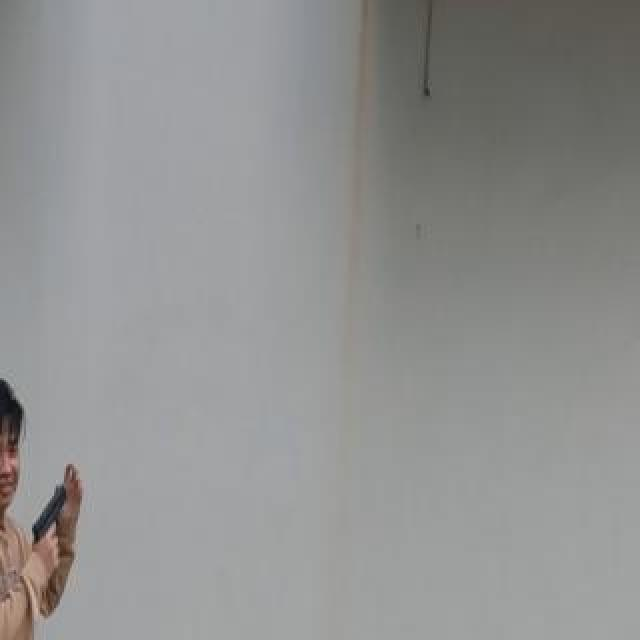Guns: (27, 478, 76, 576)
